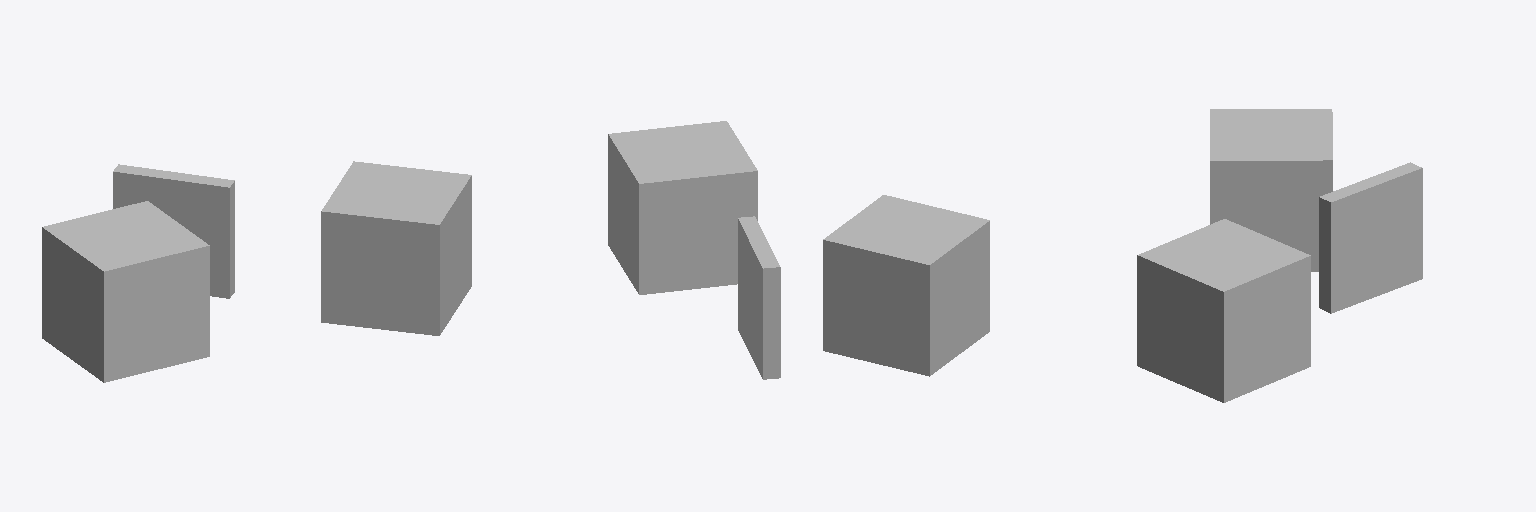
Rendered from ReflectionTestWIthCube.obj.
3 renders of one model, left to right at view 1: azimuth 30°, elevation 25°; view 2: azimuth 150°, elevation 25°; view 3: azimuth 270°, elevation 25°, orthographic.
Parts seen in each view (by area): view 1: Cube.001_Cube.022, Cube_Cube.021, Cube.002_Cube.023; view 2: Cube.001_Cube.022, Cube_Cube.021, Cube.002_Cube.023; view 3: Cube_Cube.021, Cube.001_Cube.022, Cube.002_Cube.023.
Part boxes in pixels (x1,y1,x2,y2): Cube.001_Cube.022: (42,201,209,382); Cube_Cube.021: (321,161,471,335); Cube.002_Cube.023: (113,164,234,298); Cube.001_Cube.022: (823,195,989,376); Cube_Cube.021: (608,121,757,294); Cube.002_Cube.023: (738,216,780,379); Cube_Cube.021: (1137,219,1310,402); Cube.001_Cube.022: (1210,109,1332,271); Cube.002_Cube.023: (1319,162,1422,313).
Size of the model in its own units: 7.07 by 2 by 4.64.